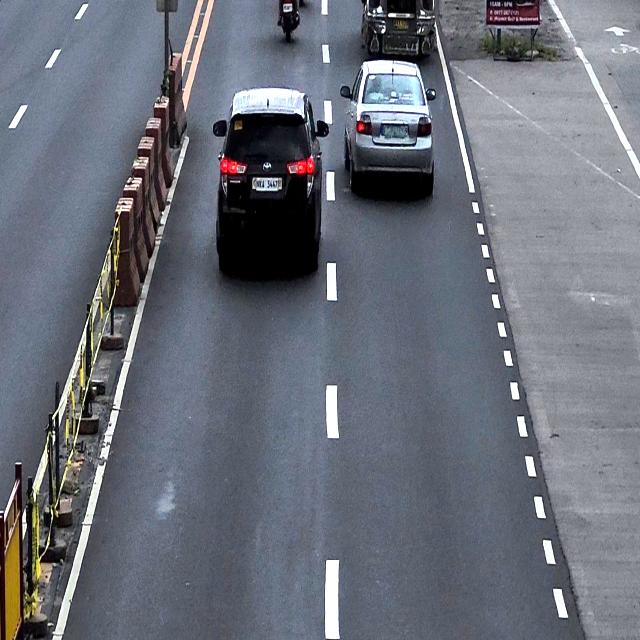Car: (212, 87, 329, 273), (340, 58, 436, 195)
Jeep: (360, 0, 438, 58)
License-Plate: (251, 175, 283, 192), (382, 122, 407, 140), (393, 17, 410, 32), (283, 4, 293, 14)
Motorcycle: (277, 0, 301, 43)
